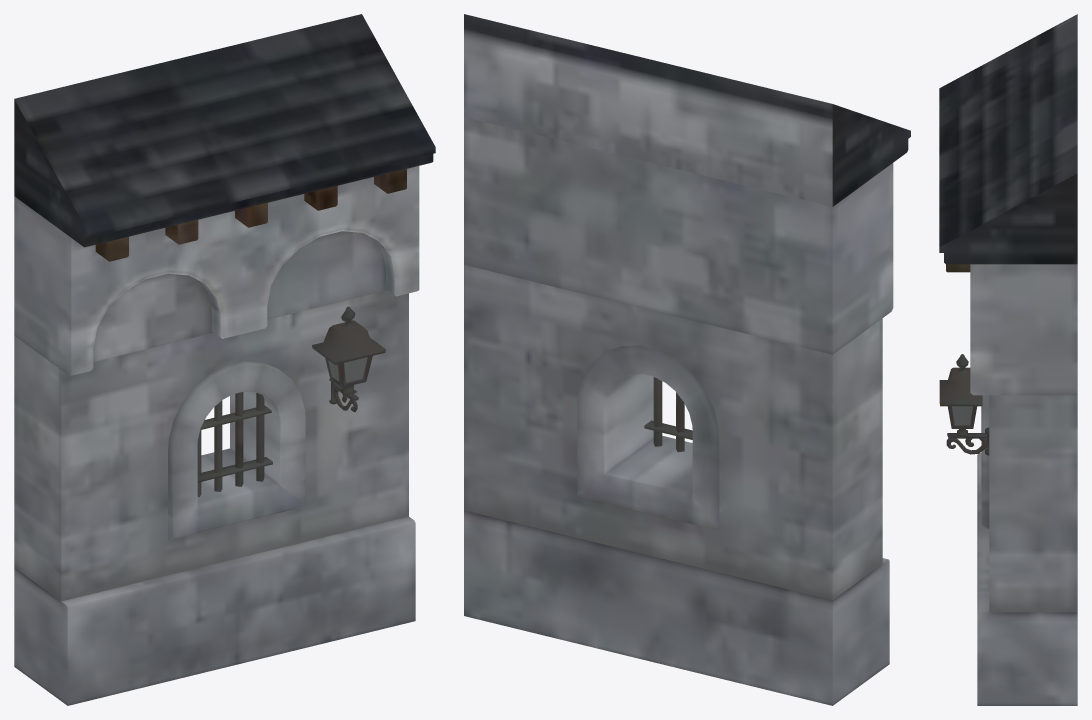
3 renders of one model, left to right at view 1: azimuth 30°, elevation 25°; view 2: azimuth 150°, elevation 25°; view 3: azimuth 270°, elevation 25°, orthographic. The views are drawn at different scales.
Size of the model in its own units: 20 by 31.2 by 7.36.
1 material, 1 textured.
